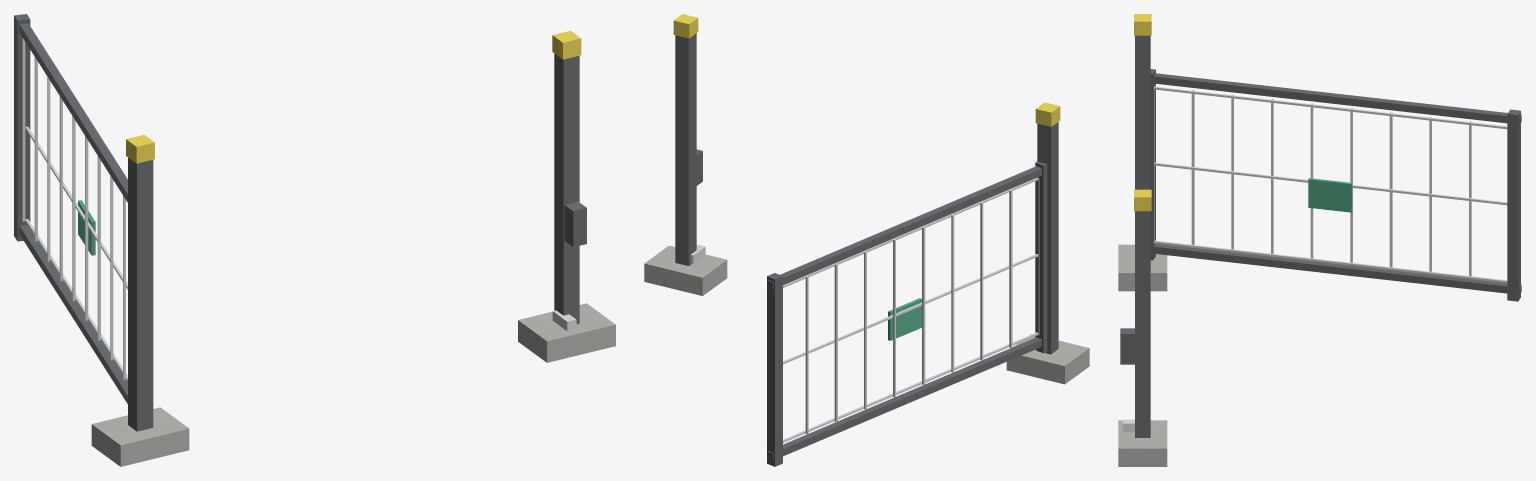
File: recycling-and-waste-transfer-yard-recycling-and-waste--78bad651__34926.glb
The picture shows the model from 3 angles, left to right: view 1: azimuth 30°, elevation 25°; view 2: azimuth 150°, elevation 25°; view 3: azimuth 270°, elevation 25°; orthographic projection. The views are drawn at different scales.
Parts seen in each view (by area): view 1: recycling-and-waste-transfer-yard-site-fence-gate; view 2: recycling-and-waste-transfer-yard-site-fence-gate; view 3: recycling-and-waste-transfer-yard-site-fence-gate.
Boxes of the visible parts, x1,y1,x2,y2 form: recycling-and-waste-transfer-yard-site-fence-gate: (14, 14, 615, 466); recycling-and-waste-transfer-yard-site-fence-gate: (644, 14, 1089, 466); recycling-and-waste-transfer-yard-site-fence-gate: (1118, 14, 1521, 466).
Size of the model in its own units: 4.32 by 2.56 by 3.61.
Materials: 5 (1 with a texture image).
